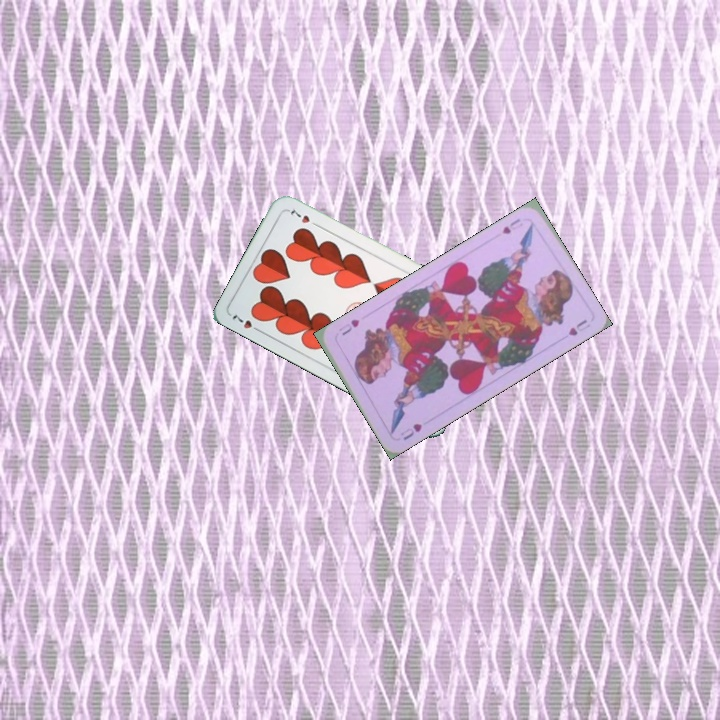H7: (228, 310, 265, 336)
HU: (396, 419, 424, 443), (498, 214, 523, 237)
